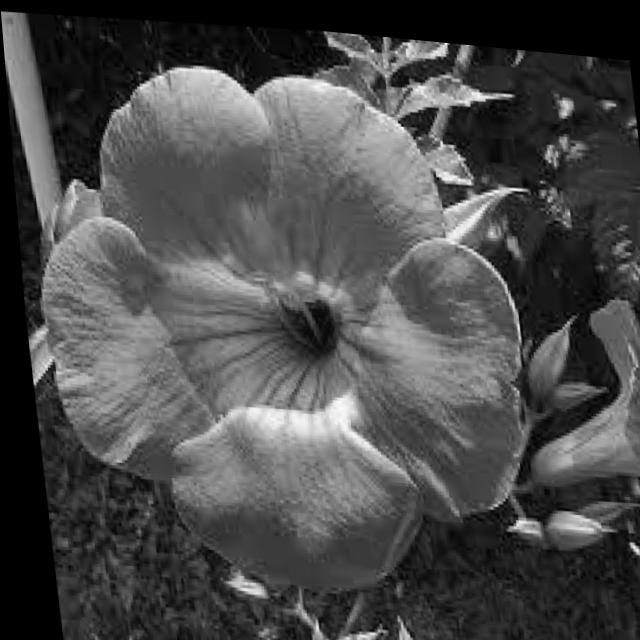Flower: (17, 38, 552, 616)
